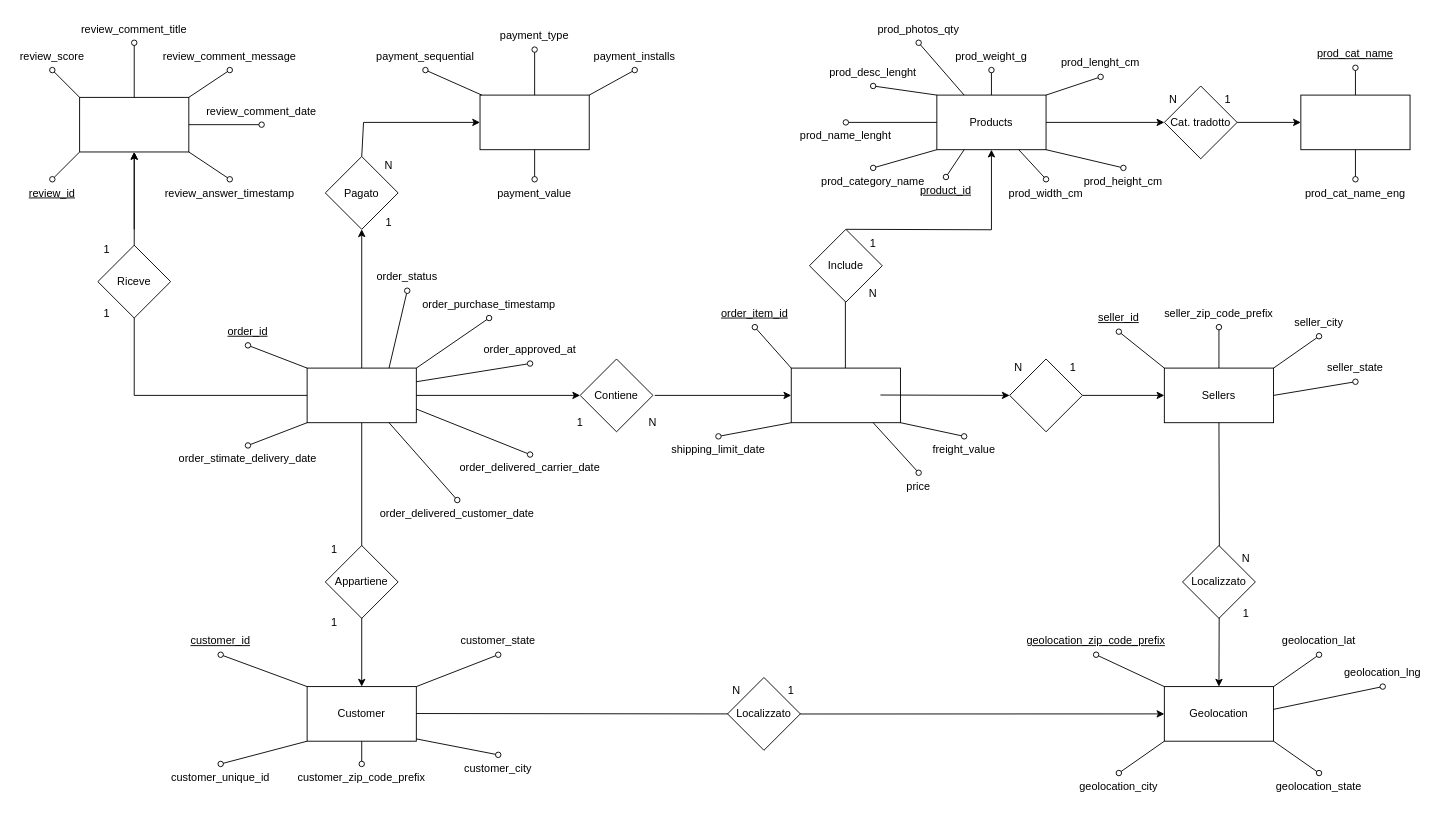
Some shapes in this 1443 by 816 pixel diagram are drawn without their labels. Each missing label, with the centre of its shape:
cat.translation: the point at 1355,122
Order: the point at 361,395
order_items: the point at 845,395
Order_payments: the point at 534,122
Order_reviews: the point at 134,124
Venduto da: the point at 1045,395
